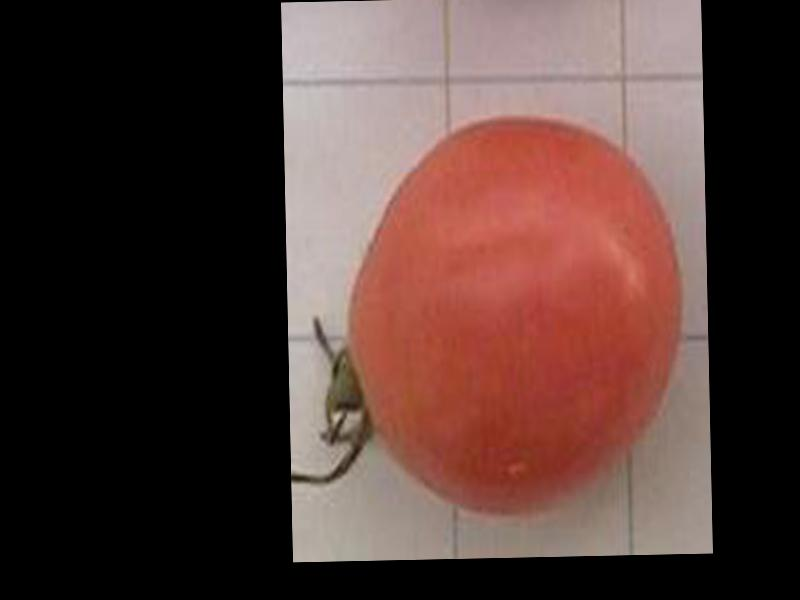Tomato: (343, 114, 686, 519)
